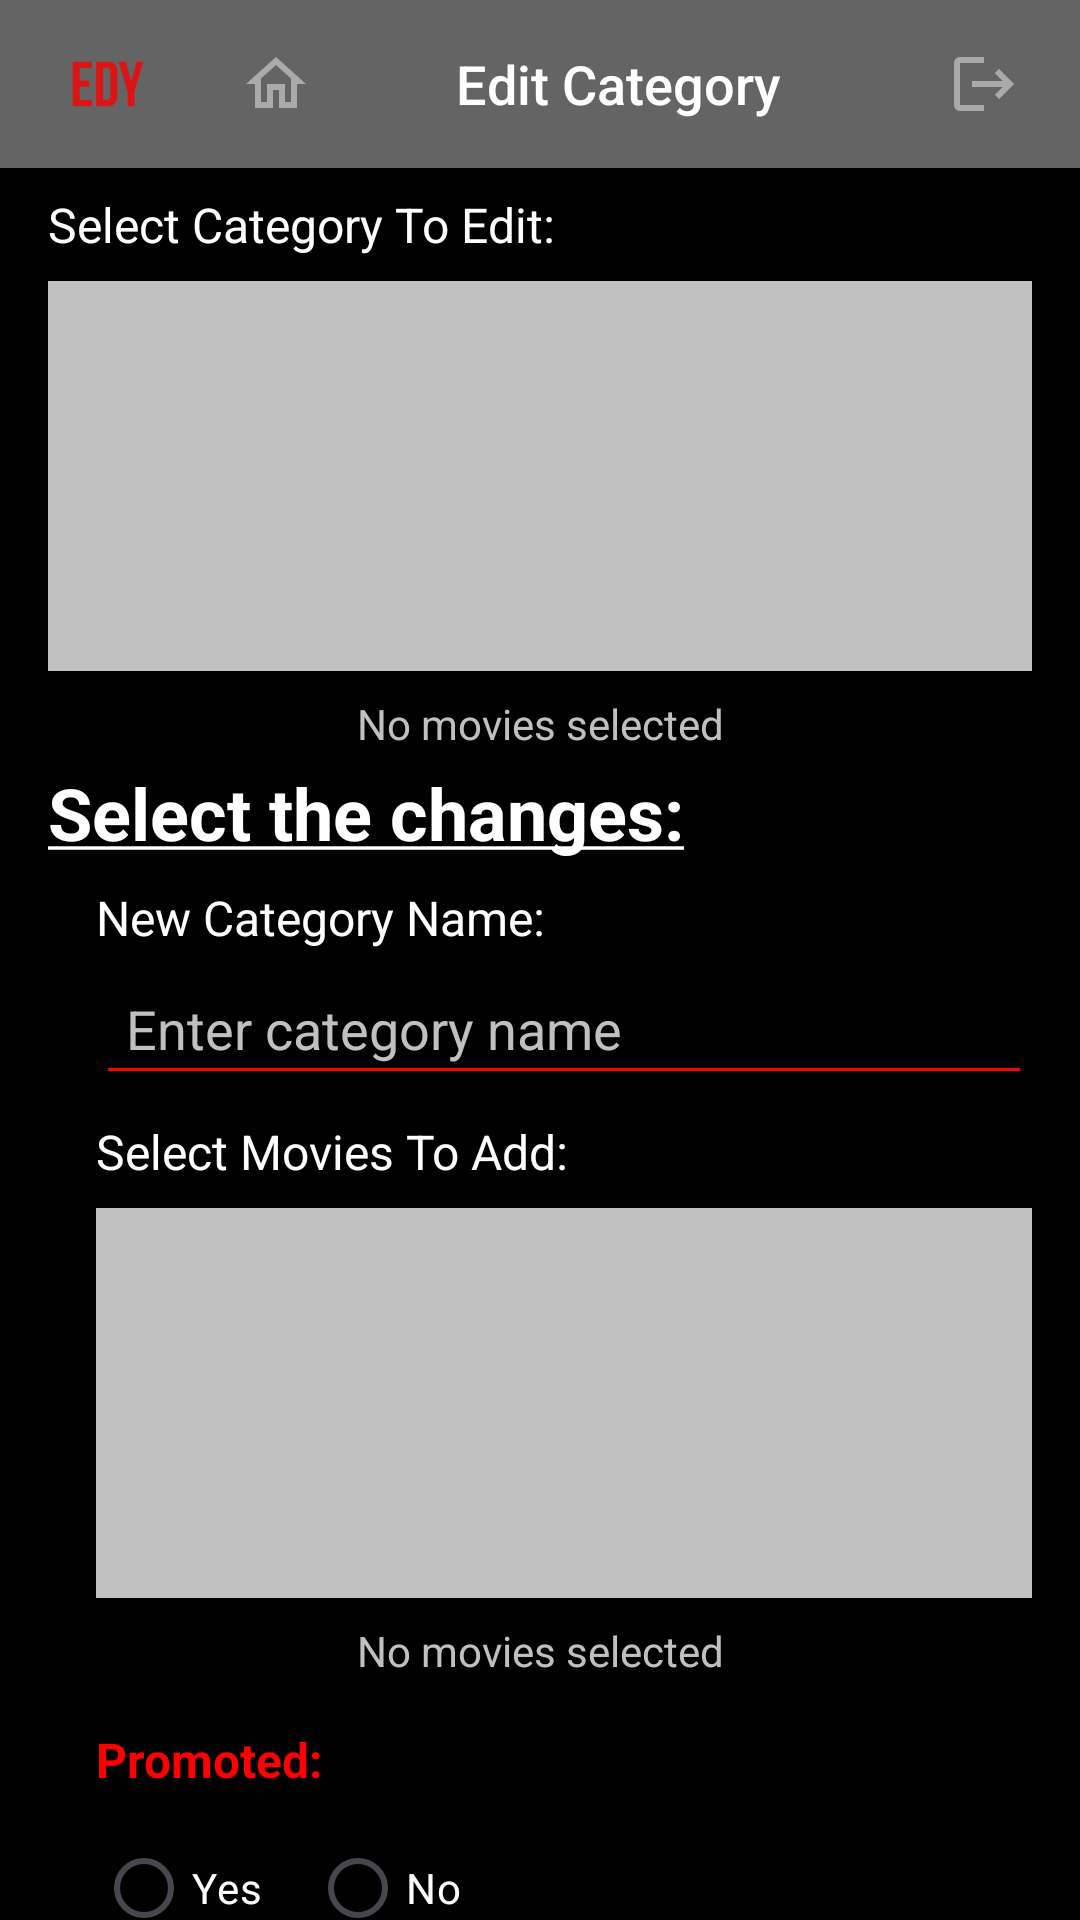

Named icons in this screenshot (1080w x 1920h) and their centers, [x,y]:
Home Button: [276,82]
